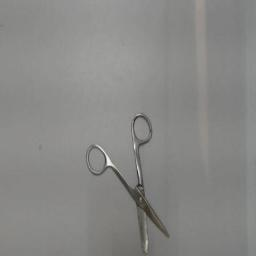Dressing Scissors: (79, 105, 173, 255)
